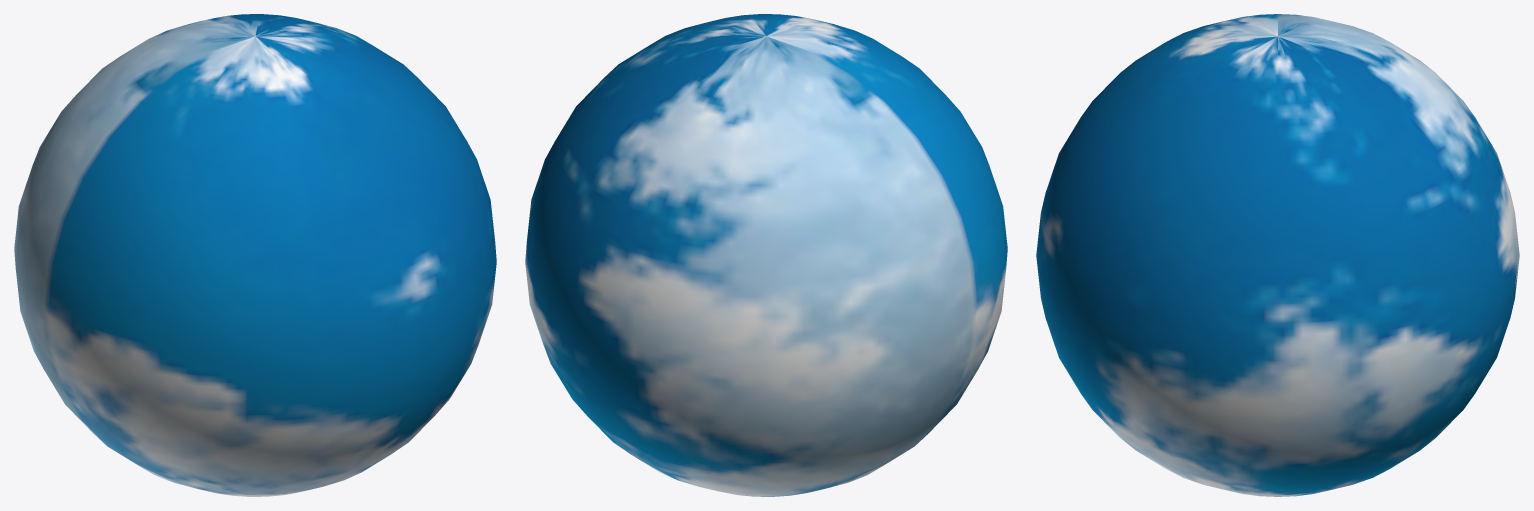
File: Smash64RemixHomeRunContest.glb
The picture shows the model from 3 angles, left to right: view 1: azimuth 30°, elevation 25°; view 2: azimuth 150°, elevation 25°; view 3: azimuth 270°, elevation 25°; orthographic projection.
Parts seen in each view (by area): view 1: Sphere; view 2: Sphere; view 3: Sphere.
Part boxes in pixels (x1,y1,x2,y2): Sphere: (14, 14, 496, 496); Sphere: (525, 14, 1007, 496); Sphere: (1036, 14, 1519, 496).
Size of the model in its own units: 522 by 522 by 522.
82 materials, 82 textured.
